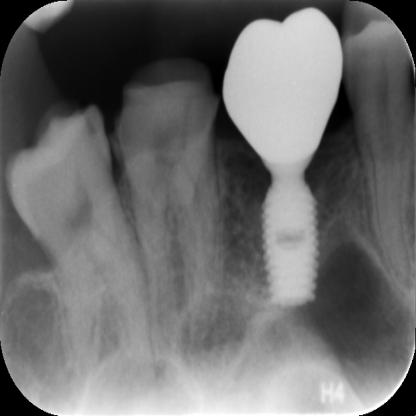Bicon: (262, 169, 319, 308)
